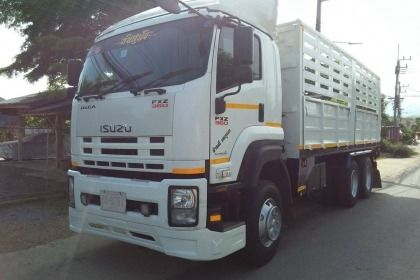truck: (64, 6, 295, 269)
